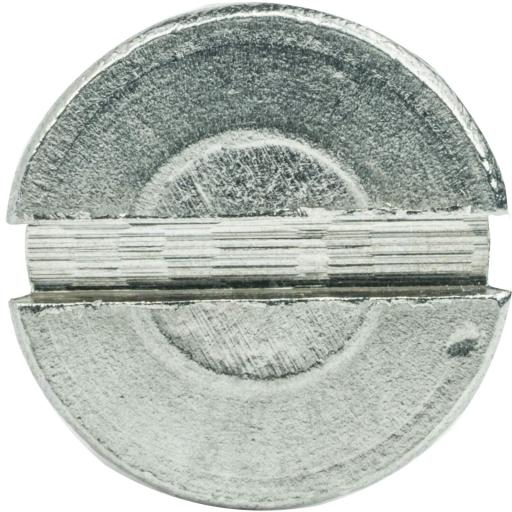Slotted: (9, 4, 507, 501)
